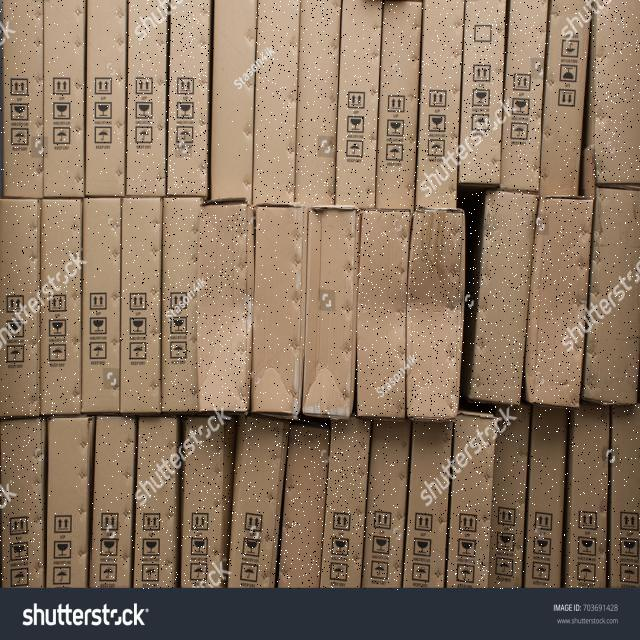BoxFace: (468, 192, 538, 406), (528, 197, 594, 405), (581, 189, 640, 405), (406, 209, 464, 421), (302, 208, 358, 424), (356, 210, 411, 424), (251, 206, 306, 416), (225, 418, 289, 586), (201, 202, 251, 413), (415, 0, 465, 210), (271, 419, 332, 589), (542, 0, 594, 196), (334, 0, 382, 206), (316, 421, 374, 588), (480, 402, 531, 589), (376, 0, 422, 206), (209, 0, 254, 204), (0, 200, 42, 418), (42, 198, 84, 416), (254, 0, 298, 205), (360, 417, 412, 590), (296, 0, 340, 204), (564, 402, 612, 588), (400, 422, 453, 590), (121, 198, 162, 414), (0, 0, 44, 200), (502, 0, 548, 191), (445, 416, 496, 588), (593, 0, 640, 183), (166, 0, 210, 195), (82, 196, 121, 416), (162, 198, 202, 412), (523, 408, 570, 589), (126, 0, 168, 195), (462, 0, 506, 183), (92, 416, 138, 588), (132, 417, 178, 589), (86, 0, 126, 196), (182, 416, 228, 586), (0, 418, 45, 588), (48, 418, 92, 587), (46, 0, 84, 195), (607, 403, 640, 588)
